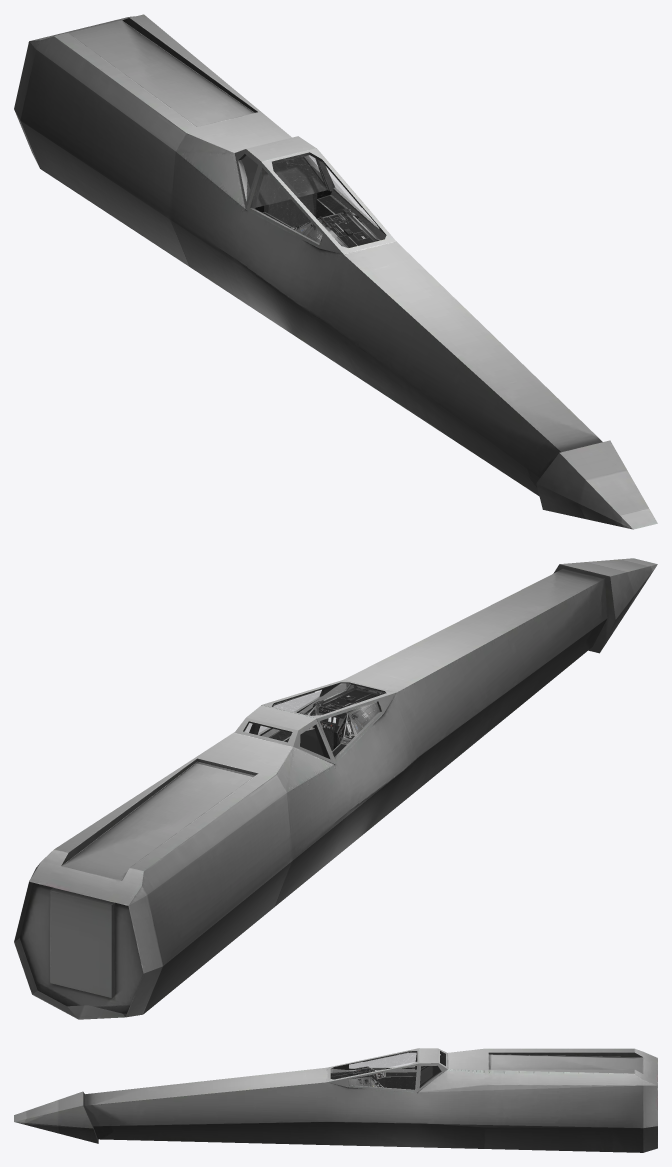
Rendered from fighter-cockpit.glb.
3 renders of one model, top to bottom at view 1: azimuth 30°, elevation 25°; view 2: azimuth 150°, elevation 25°; view 3: azimuth 270°, elevation 25°, orthographic. The views are drawn at different scales.
Parts seen in each view (by area): view 1: hull_hull_0, windows_glass_0, canopy_canopy_front_0, console_console_0, canopy_back_canopy_back_0, cockpit_1_cockpit_0; view 2: hull_hull_0, windows_glass_0, console_console_0, canopy_back_canopy_back_0, canopy_canopy_front_0; view 3: hull_hull_0, windows_glass_0, canopy_canopy_front_0, console_console_0, canopy_back_canopy_back_0, cockpit_1_cockpit_0, cockpitrim_base_grey_0.
Part boxes in pixels (box(x1,y1,x2,y2)): hull_hull_0: box(14, 14, 657, 529); windows_glass_0: box(250, 153, 383, 245); canopy_canopy_front_0: box(247, 148, 396, 254); console_console_0: box(262, 195, 379, 247); canopy_back_canopy_back_0: box(234, 136, 328, 209); cockpit_1_cockpit_0: box(255, 190, 333, 227); hull_hull_0: box(14, 558, 657, 1019); windows_glass_0: box(244, 683, 384, 758); console_console_0: box(269, 688, 381, 756); canopy_back_canopy_back_0: box(234, 705, 334, 763); canopy_canopy_front_0: box(256, 679, 396, 763); hull_hull_0: box(14, 1048, 657, 1152); windows_glass_0: box(331, 1051, 445, 1089); canopy_canopy_front_0: box(327, 1048, 419, 1092); console_console_0: box(330, 1068, 416, 1087); canopy_back_canopy_back_0: box(417, 1048, 447, 1092); cockpit_1_cockpit_0: box(376, 1076, 415, 1089); cockpitrim_base_grey_0: box(330, 1068, 416, 1085).
Size of the model in its own units: 2.12 by 2.19 by 14.58.
Materials: 18 (16 with a texture image).
